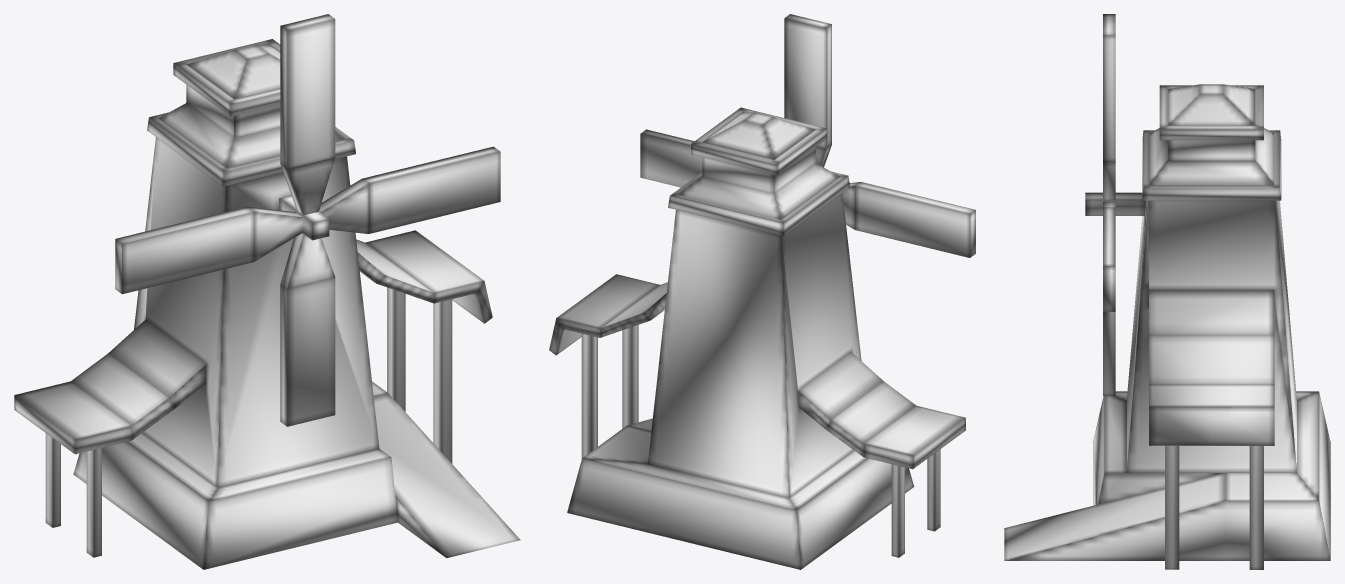
File: Windmill-01.fbx
The picture shows the model from 3 angles, left to right: view 1: azimuth 30°, elevation 25°; view 2: azimuth 150°, elevation 25°; view 3: azimuth 270°, elevation 25°; orthographic projection. The views are drawn at different scales.
Parts seen in each view (by area): view 1: Windmill, Windmill-Blades; view 2: Windmill, Windmill-Blades; view 3: Windmill, Windmill-Blades.
Part boxes in pixels (box(x1,y1,x2,y2)): Windmill: box(14, 39, 520, 569); Windmill-Blades: box(115, 14, 500, 426); Windmill: box(549, 107, 965, 569); Windmill-Blades: box(640, 14, 975, 257); Windmill: box(1004, 84, 1330, 569); Windmill-Blades: box(1103, 14, 1115, 395).
Bounding box in the file's own units: 2 × 2.37 × 1.5.
